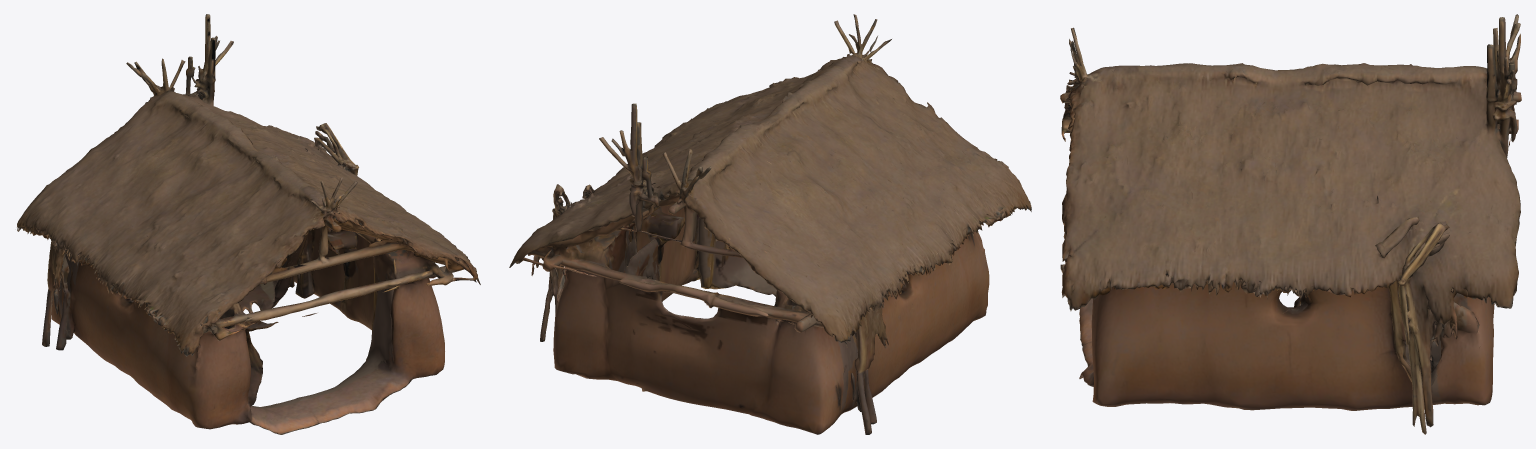
Rendered from Herd.fbx.
The picture shows the model from 3 angles, left to right: view 1: azimuth 30°, elevation 25°; view 2: azimuth 150°, elevation 25°; view 3: azimuth 270°, elevation 25°; orthographic projection. The views are drawn at different scales.
Parts seen in each view (by area): view 1: Mesh1.0; view 2: Mesh1.0; view 3: Mesh1.0.
Boxes of the visible parts, box(x1,y1,x2,y2) form: Mesh1.0: box(17, 14, 480, 434); Mesh1.0: box(509, 14, 1031, 434); Mesh1.0: box(1060, 14, 1521, 434).
Bounding box in the file's own units: 197 × 172 × 199.
1 material, 1 textured.
